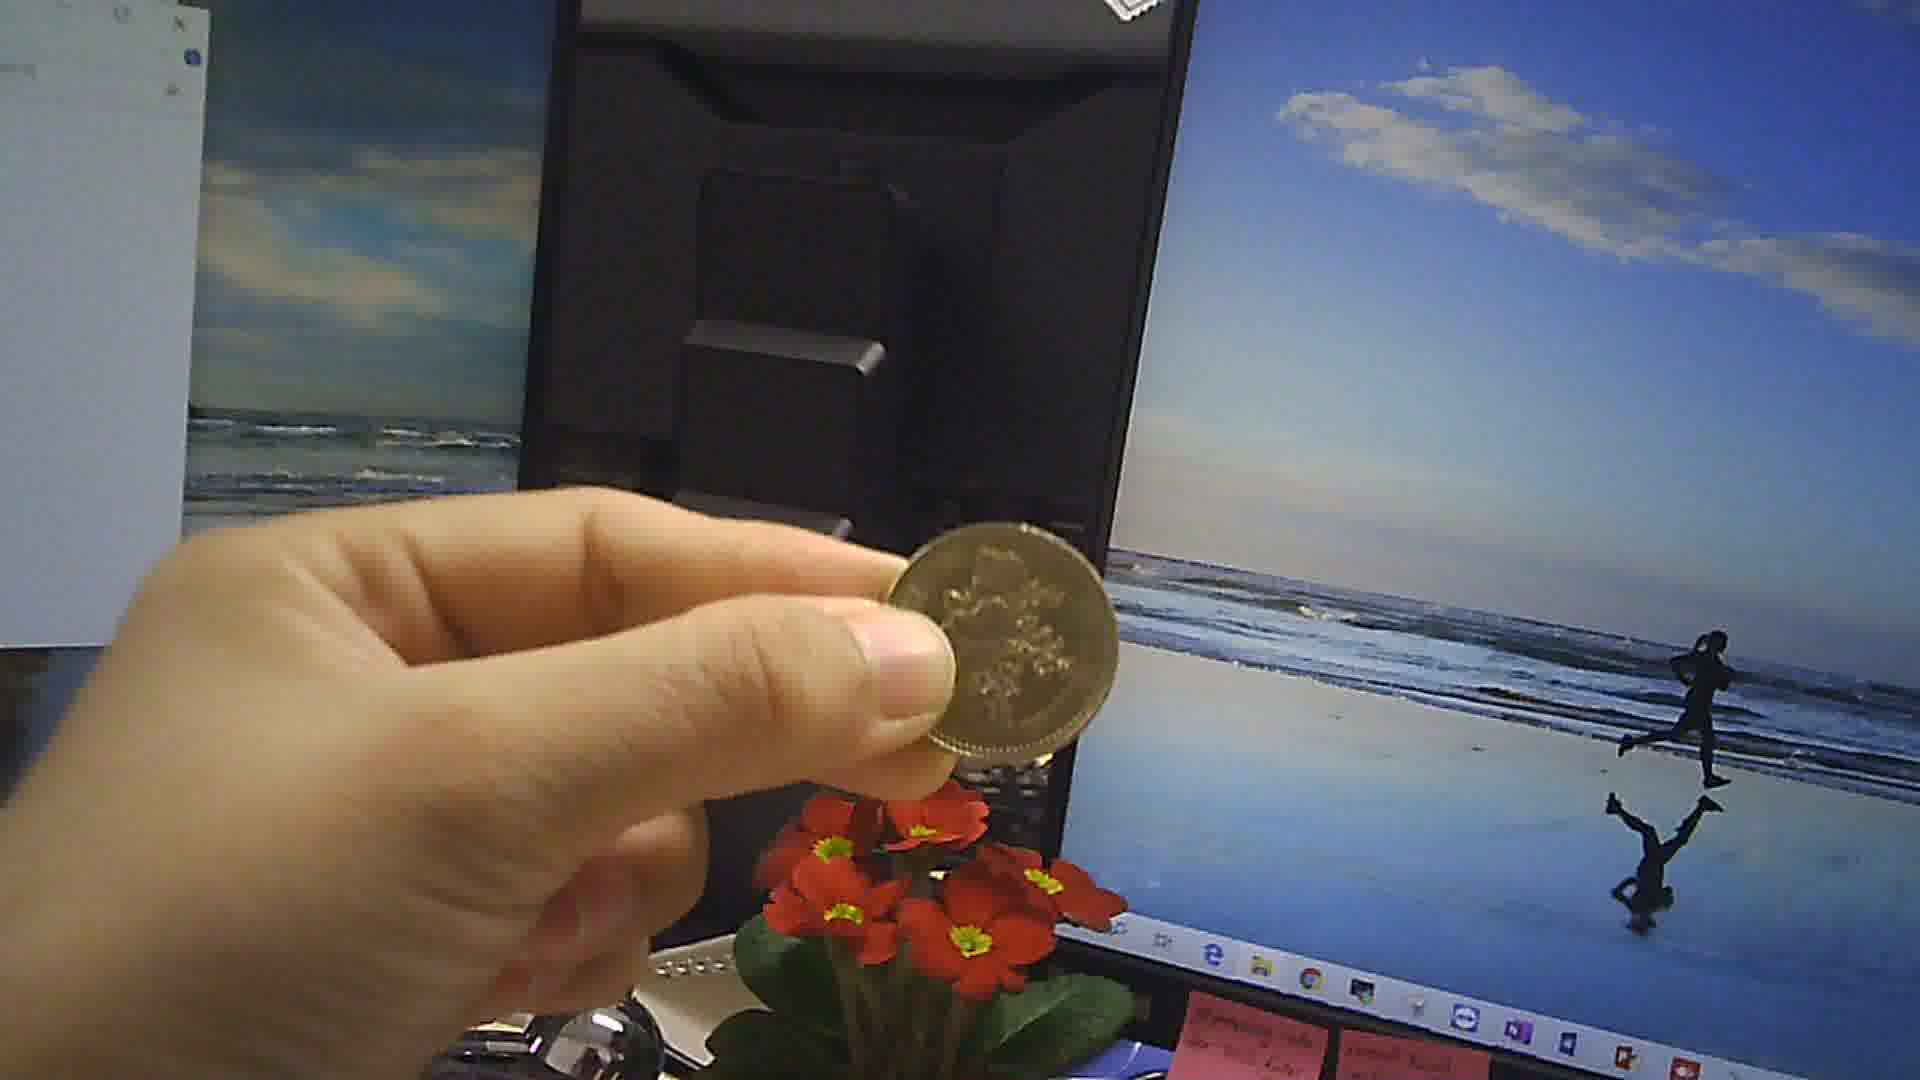500 Yen: (880, 512, 1130, 785)
